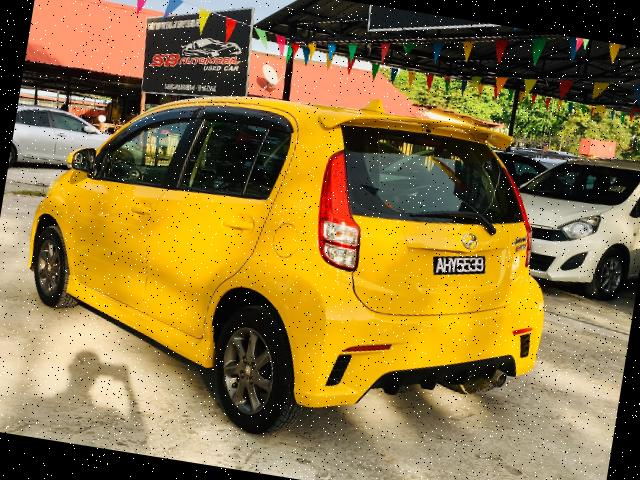License_Plate: (419, 245, 499, 286)
car: (1, 57, 576, 477)
